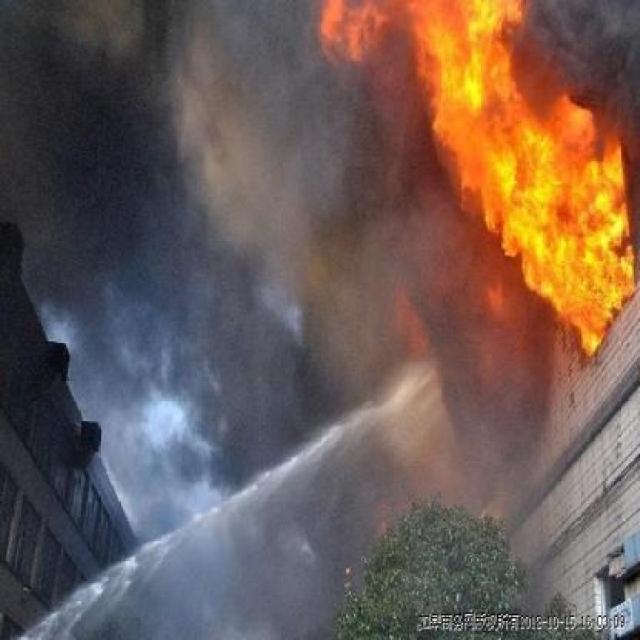Fire: (323, 2, 640, 377)
